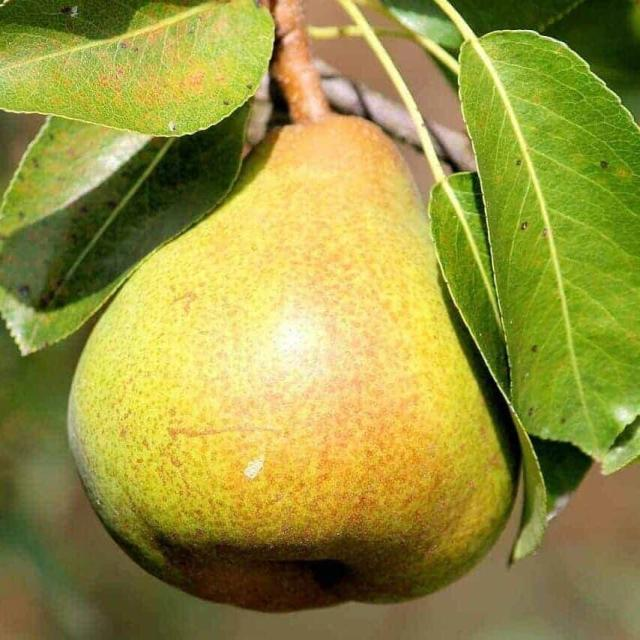pear: (65, 113, 520, 611)
